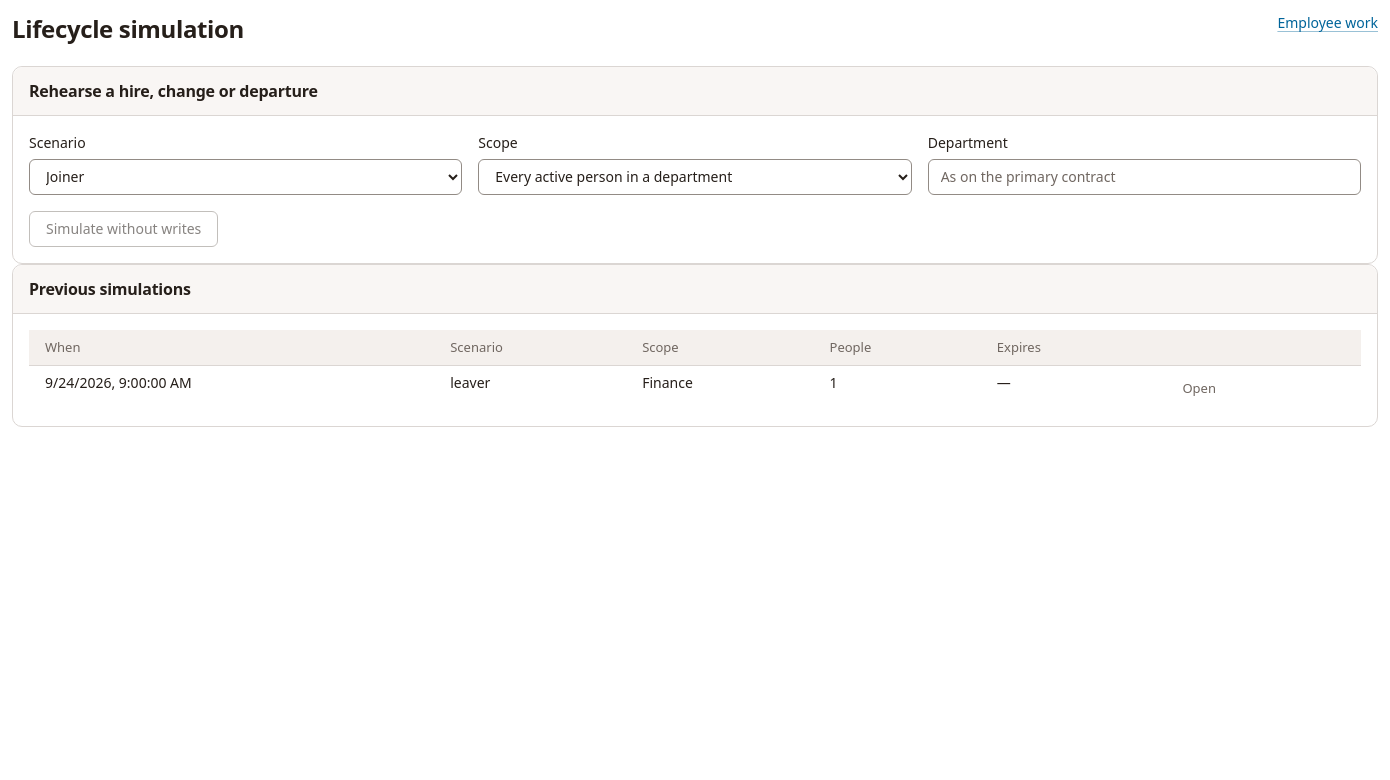
LifecycleSimulationPage › labels the result out of date as soon as the scenario is edited
Select "Leaver" in the dropdown labelled "Scenario" at (246, 177), box [29,159,462,195]
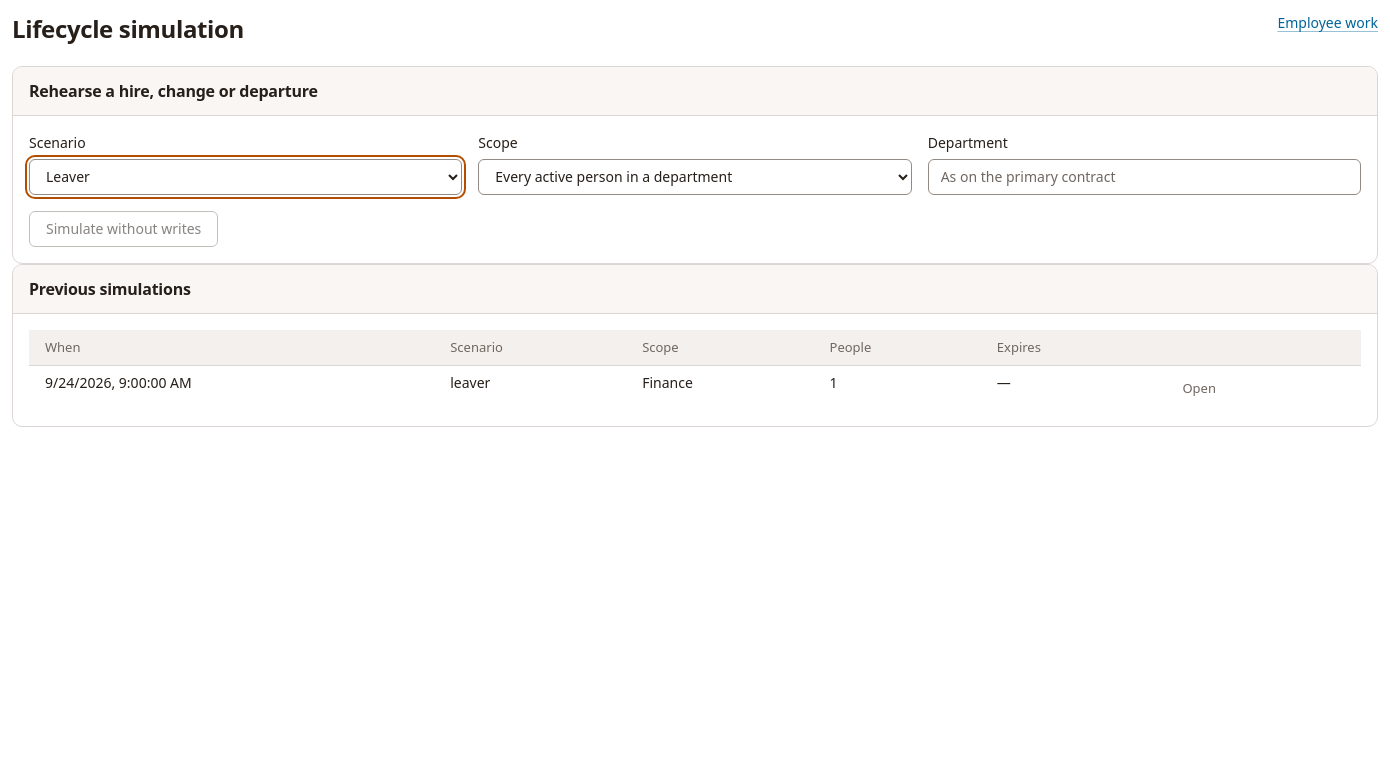
Type "Finance" into the field labelled "Department" at (1144, 177), box [928,159,1361,195]
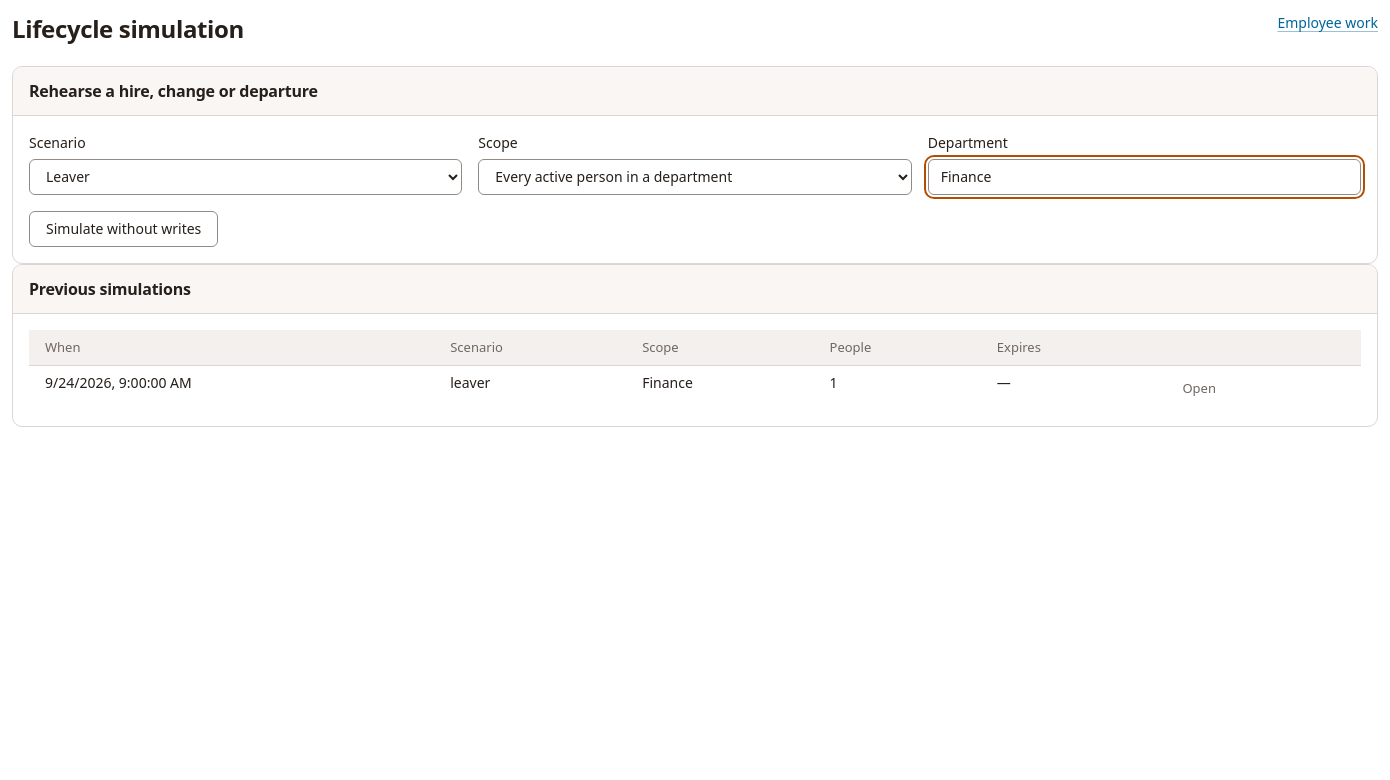
Click the button "Simulate without writes" at (124, 229), box [29,211,218,247]
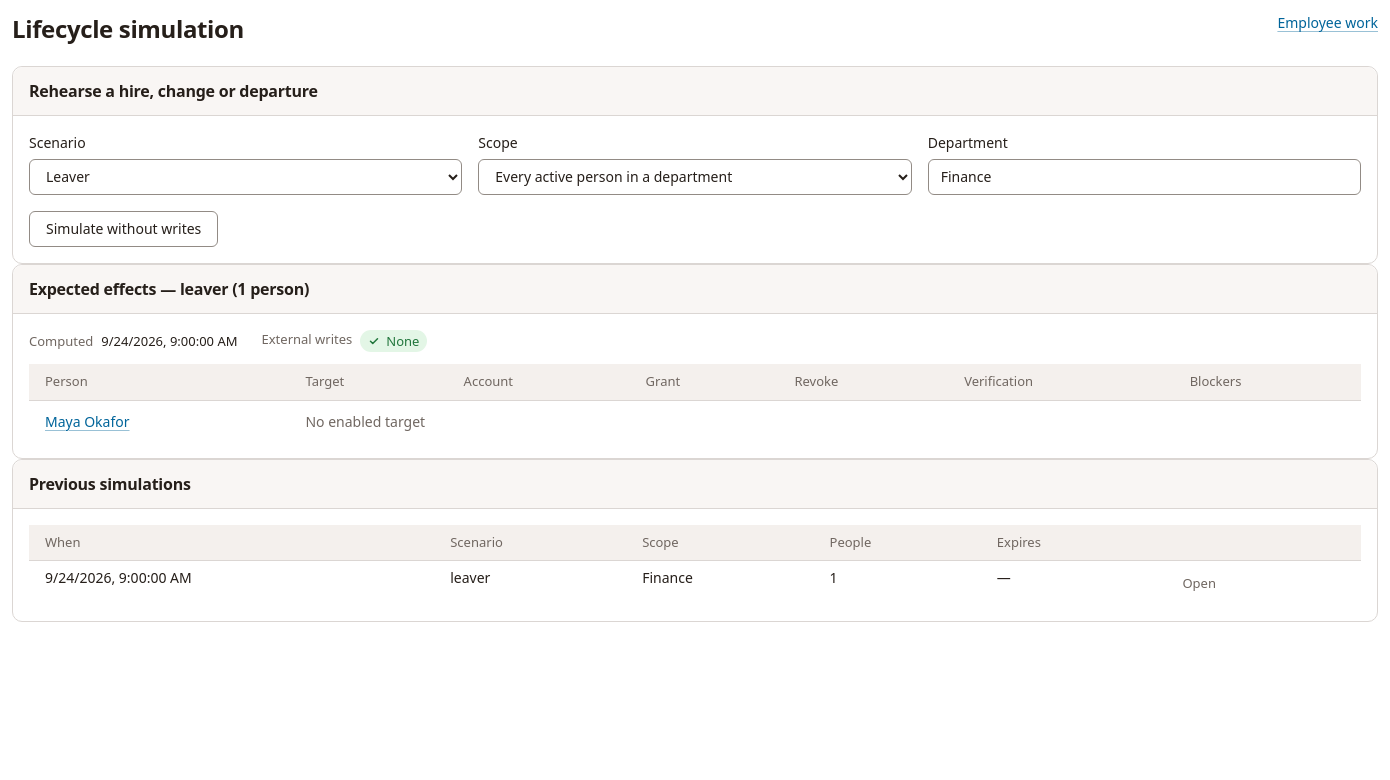
Expected: the text "Out of date" is not shown
Expected: the heading "Expected effects — leaver (1 person)" is shown, [29,277,309,301]
Type " Ops" into the field labelled "Department" at (1144, 177), box [928,159,1361,195]
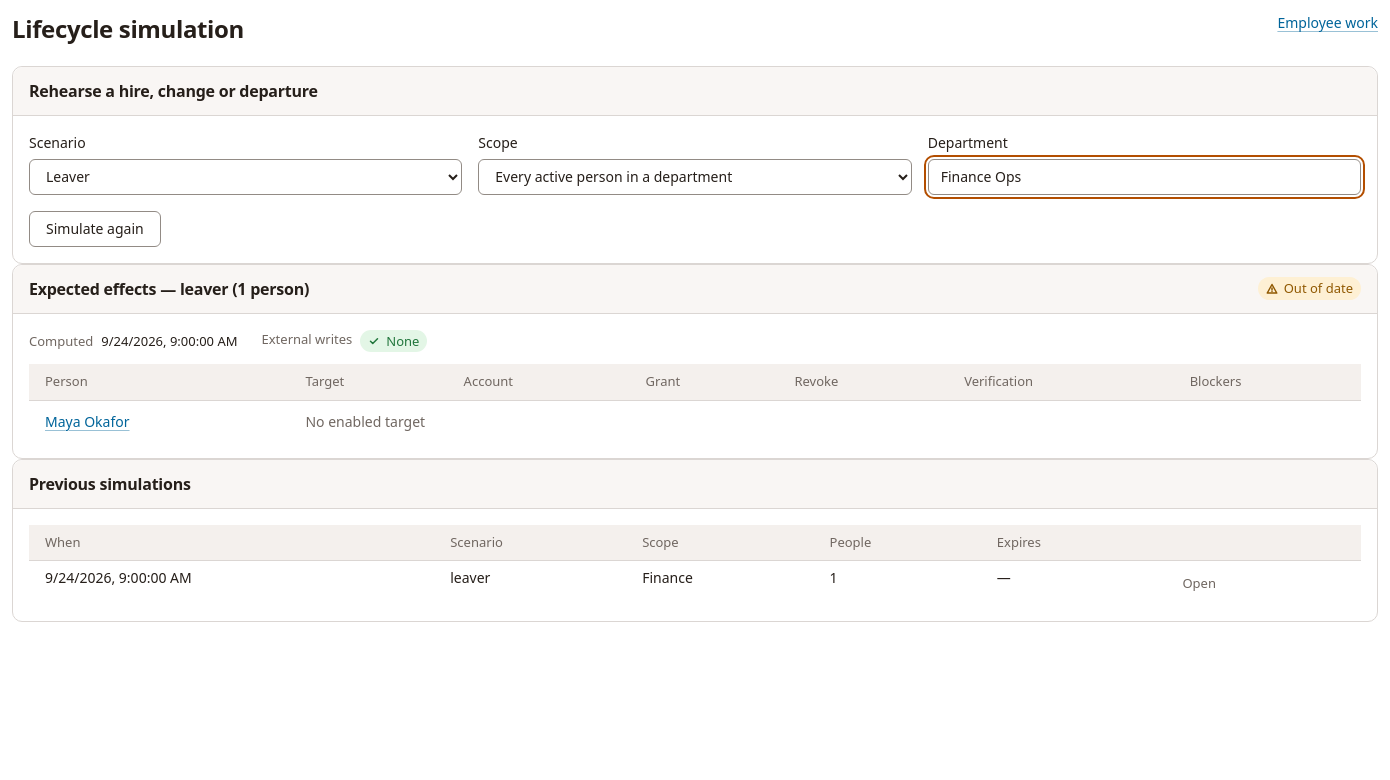
Expected: the text "Out of date" is shown, [1258,277,1361,300]
Expected: the button "Simulate again" is shown, [29,211,161,247]
Note: Putting the input back makes the result current again.
Replace the text in the field labelled "Department" with "Finance" at (1144, 177), box [928,159,1361,195]
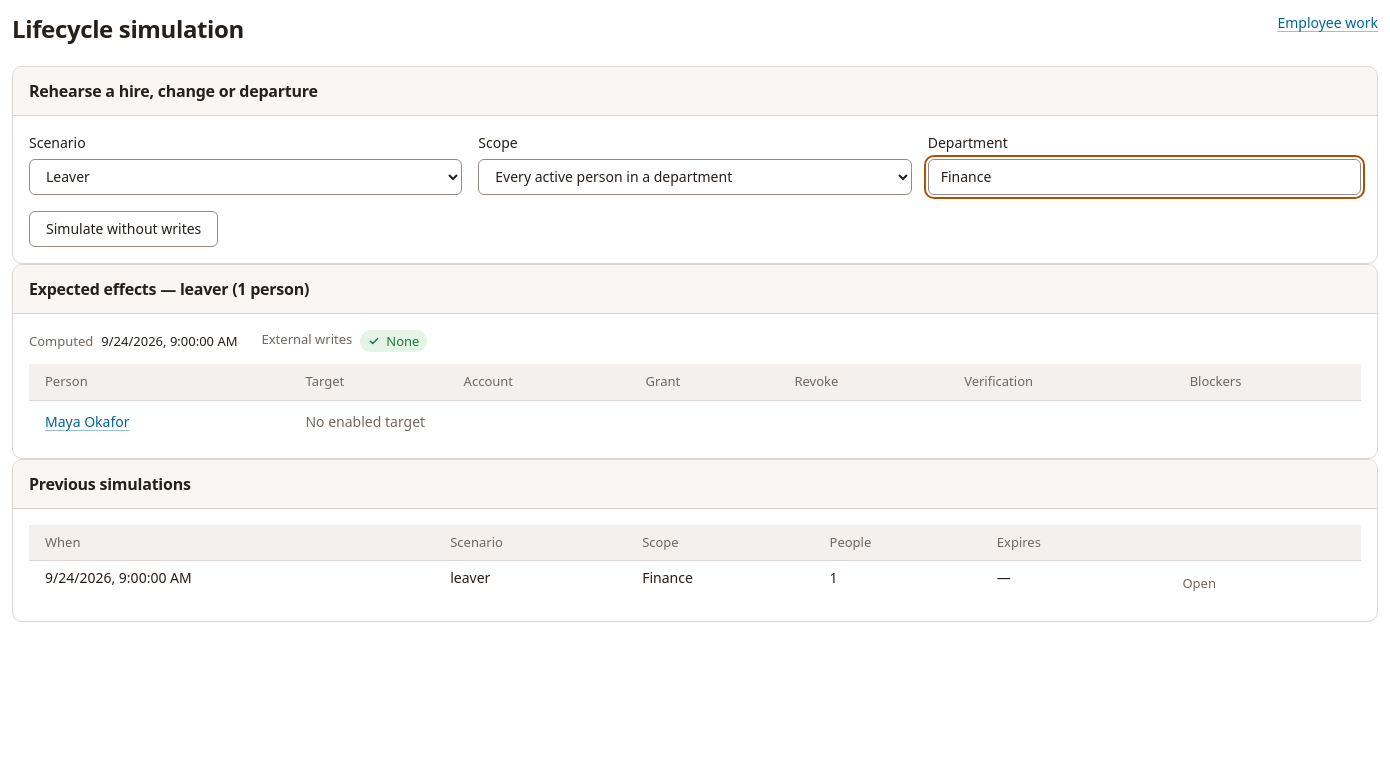
Expected: the text "Out of date" is gone
